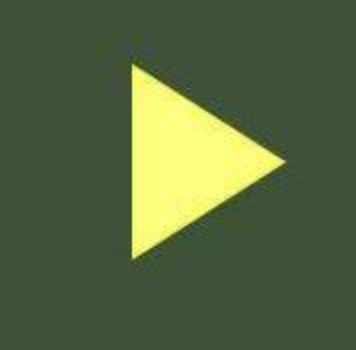ImgButton: (1, 1, 355, 349)
